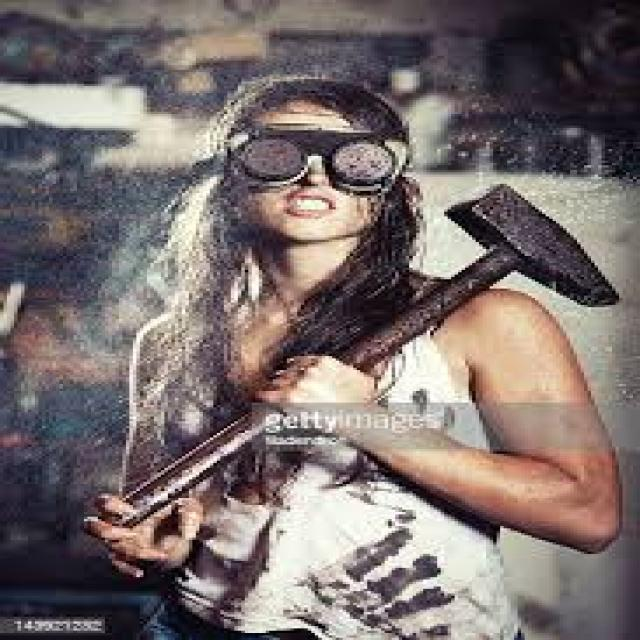hammer: (71, 179, 632, 547)
